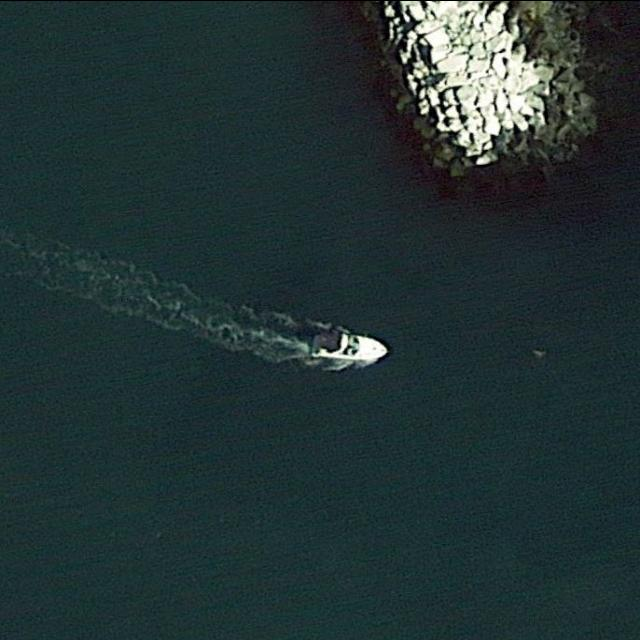ship: (305, 326, 390, 364)
